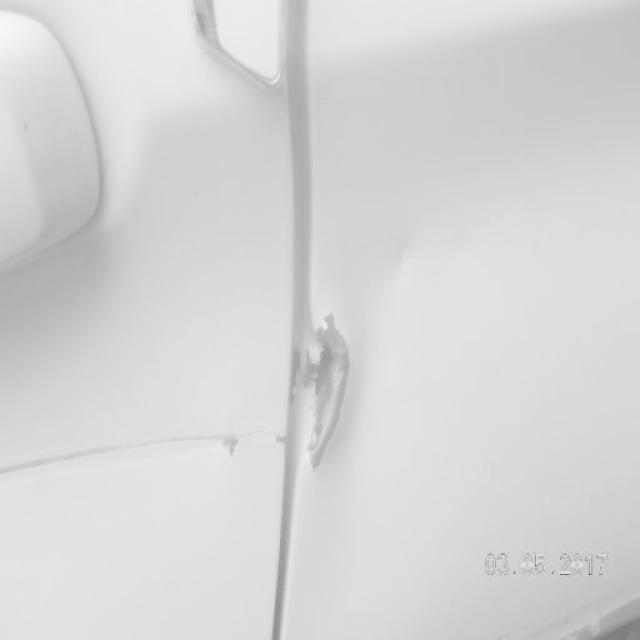car damage: (0, 421, 291, 479), (303, 313, 354, 489), (391, 236, 482, 278), (285, 345, 304, 409)
